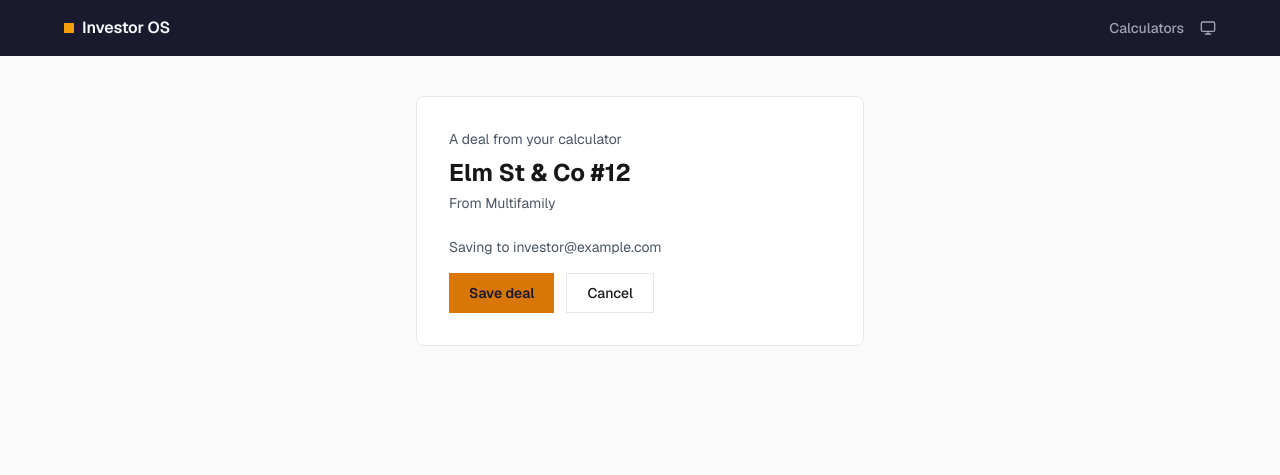
Test: /import, deal limit › says the hub is full when the server refuses on the per-user limit
Click the button "Save deal".
click(502, 293)  # box [449,273,554,313]
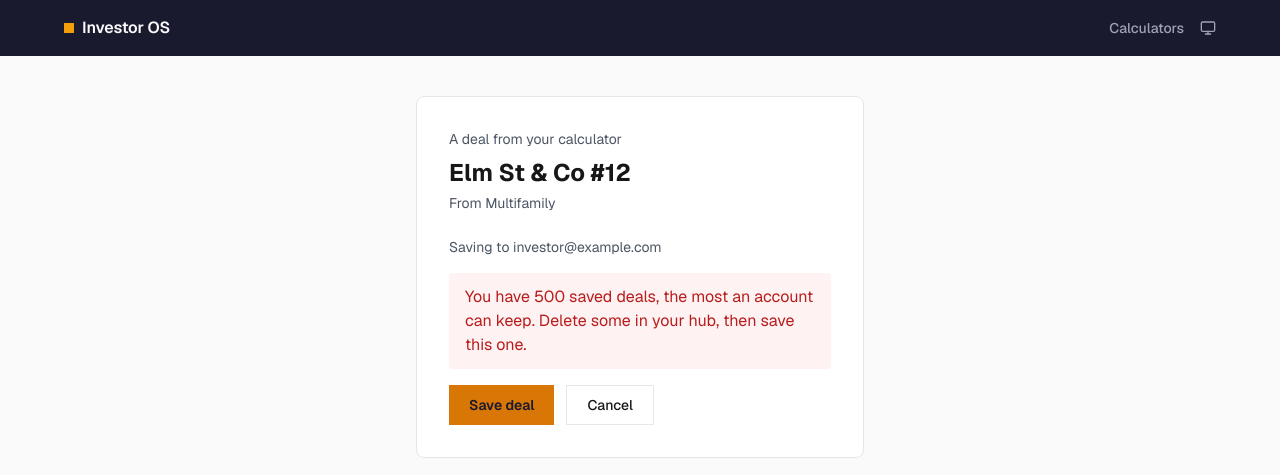
Check: the text "You have 500 saved deals, the most an account can keep. Delete some in your hub, then save this one." is shown, box [465,286,813,355]
